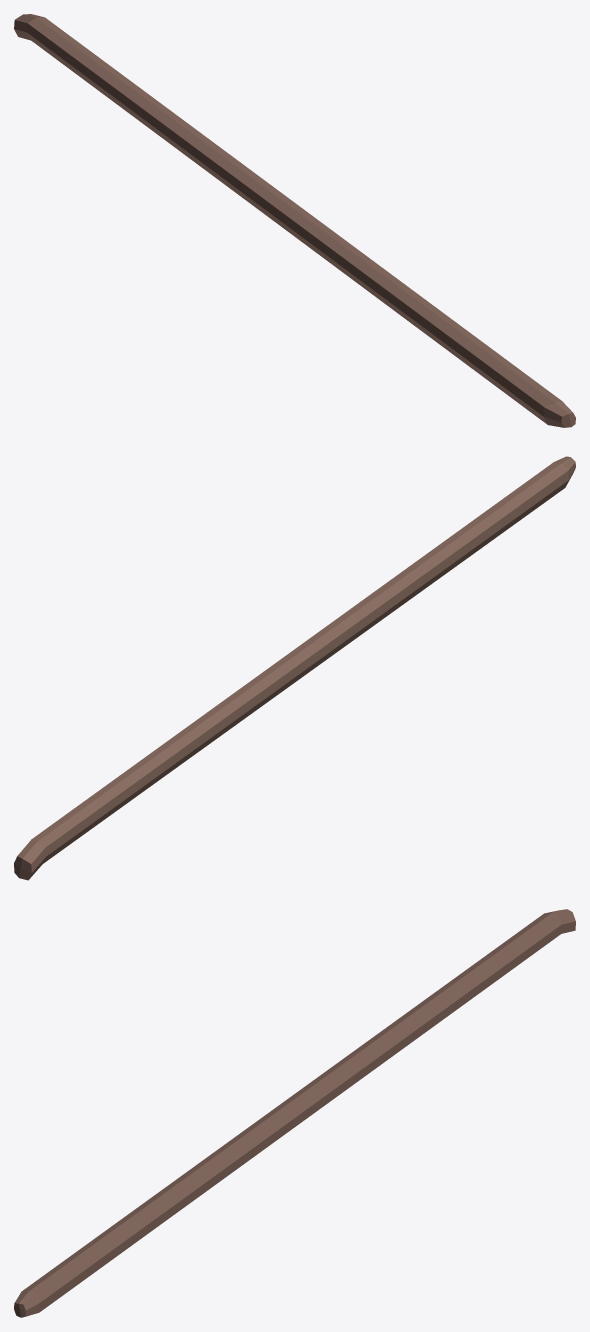
The model's file is Wooden_Rod_1_low.fbx.
The picture shows the model from 3 angles, top to bottom: view 1: azimuth 30°, elevation 25°; view 2: azimuth 150°, elevation 25°; view 3: azimuth 330°, elevation 25°; orthographic projection.
Visible parts, largest first — view 1: Wooden_Rod_1_low; view 2: Wooden_Rod_1_low; view 3: Wooden_Rod_1_low.
Boxes of the visible parts, bbox=[...] form: Wooden_Rod_1_low: bbox=[14, 14, 575, 427]; Wooden_Rod_1_low: bbox=[14, 456, 575, 880]; Wooden_Rod_1_low: bbox=[14, 909, 575, 1317].
Bounding box in the file's own units: 0.112 × 0.1151 × 4.11.
